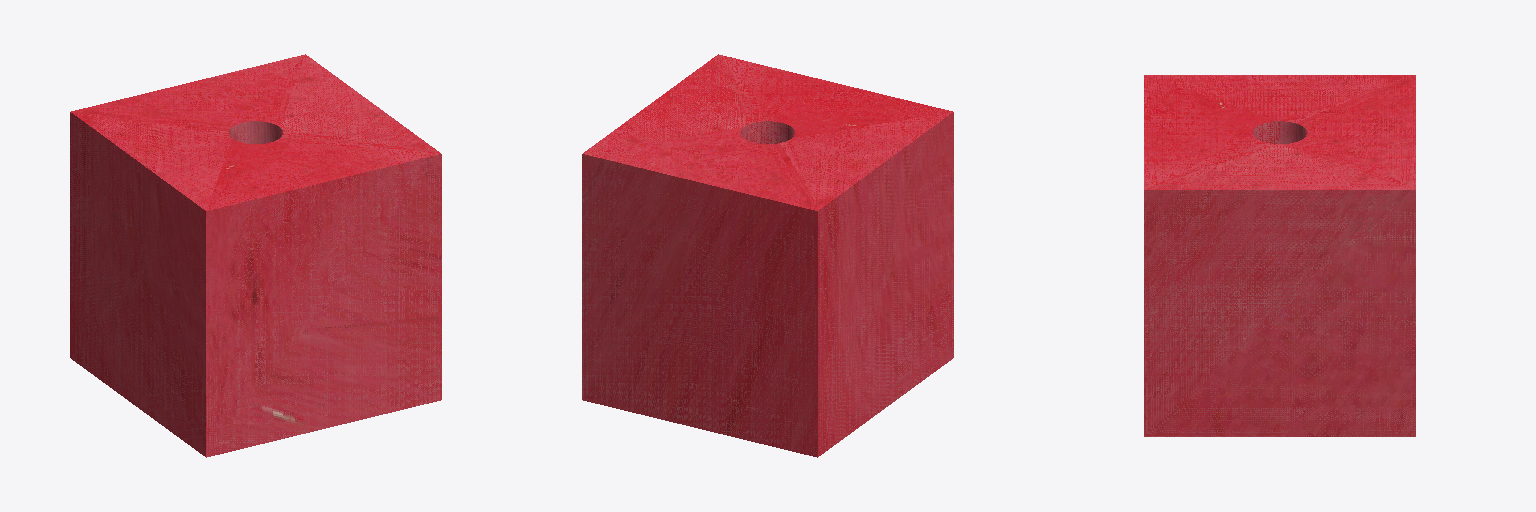
3 renders of one model, left to right at view 1: azimuth 30°, elevation 25°; view 2: azimuth 150°, elevation 25°; view 3: azimuth 270°, elevation 25°, orthographic.
Visible parts, largest first — view 1: <STL_BINARY>; view 2: <STL_BINARY>; view 3: <STL_BINARY>.
Part boxes in pixels (x1,y1,x2,y2): <STL_BINARY>: (70,54,441,457); <STL_BINARY>: (582,54,953,457); <STL_BINARY>: (1144,75,1415,436).
Bounding box in the file's own units: 0.5 × 0.5 × 0.5.
1 materials, 1 textured.